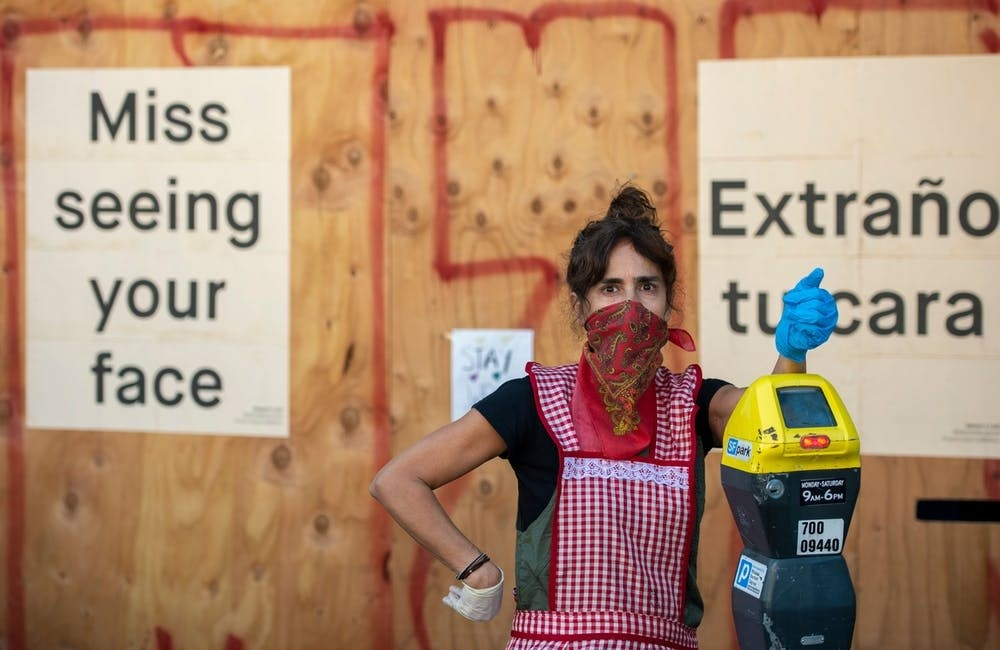face_with_mask: (574, 214, 679, 361)
